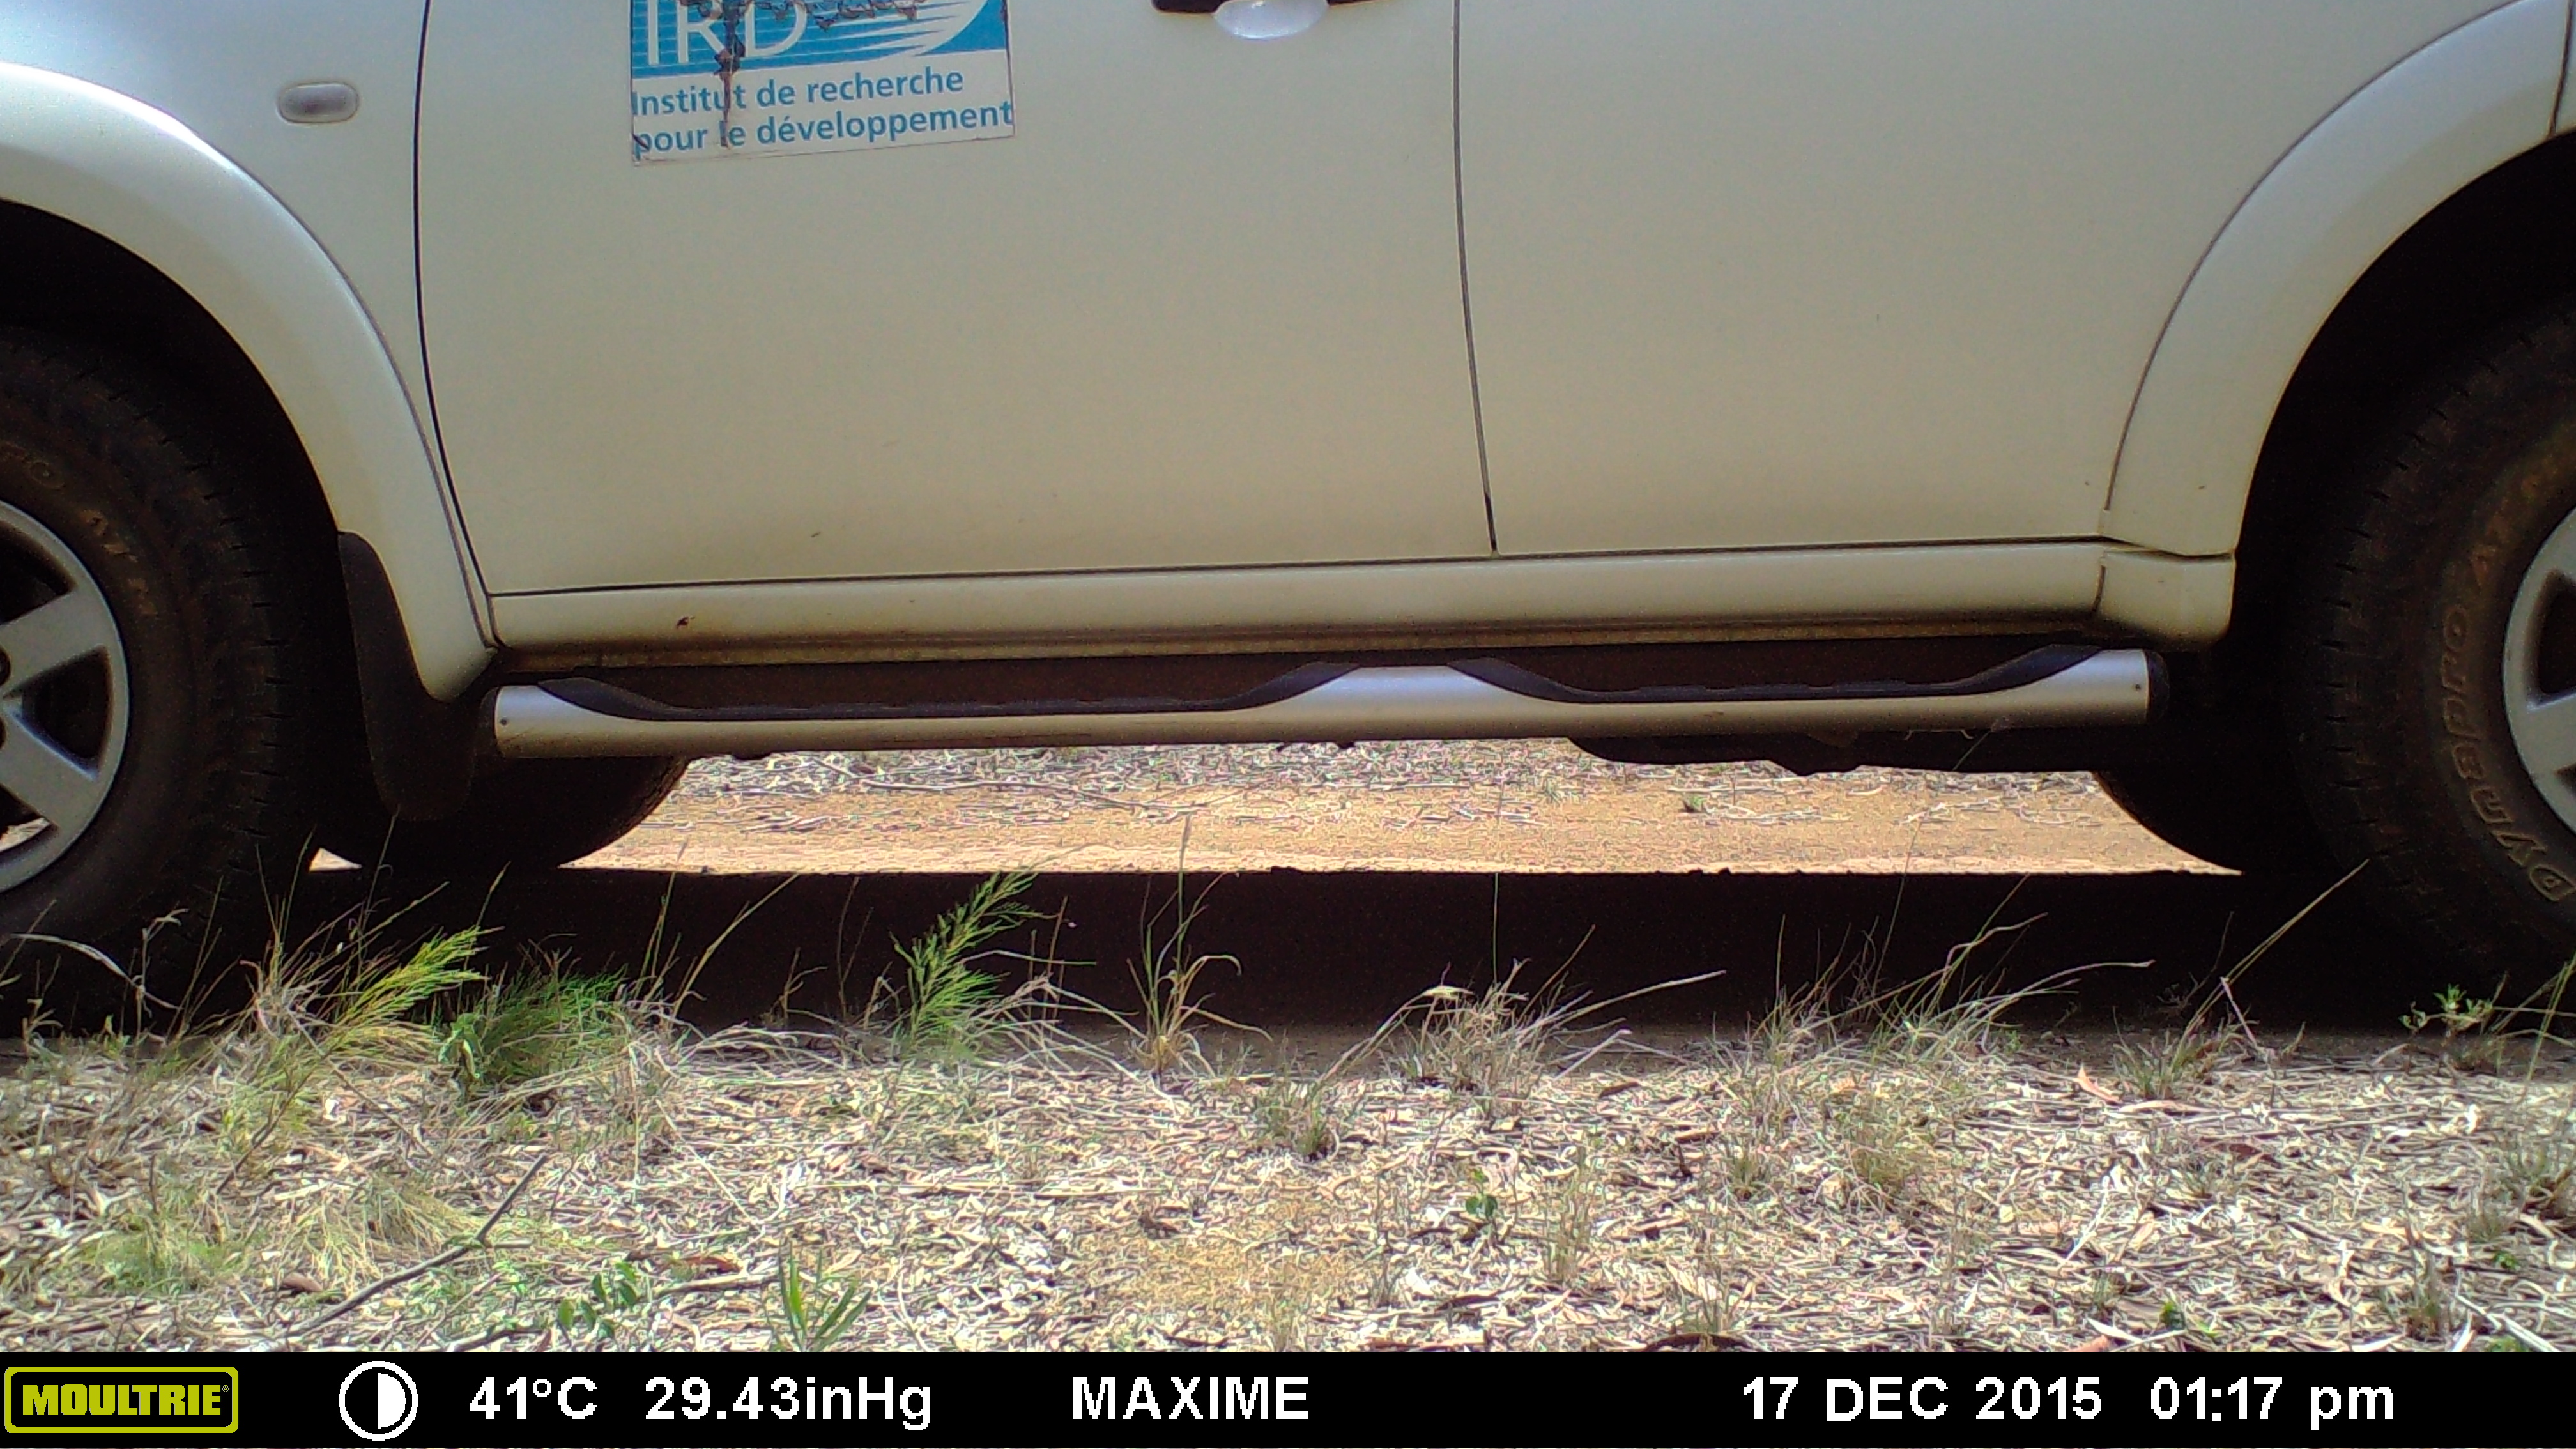Car: (4, 2, 2574, 1047)
